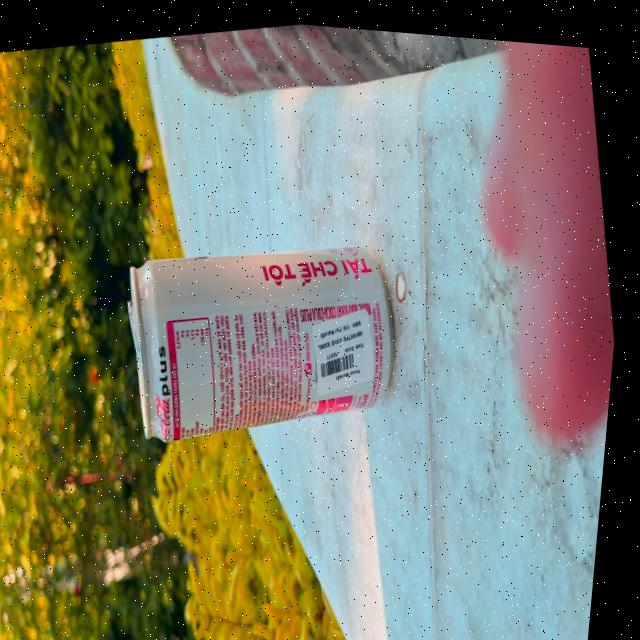Coca Cola Plus: (108, 198, 421, 462)
